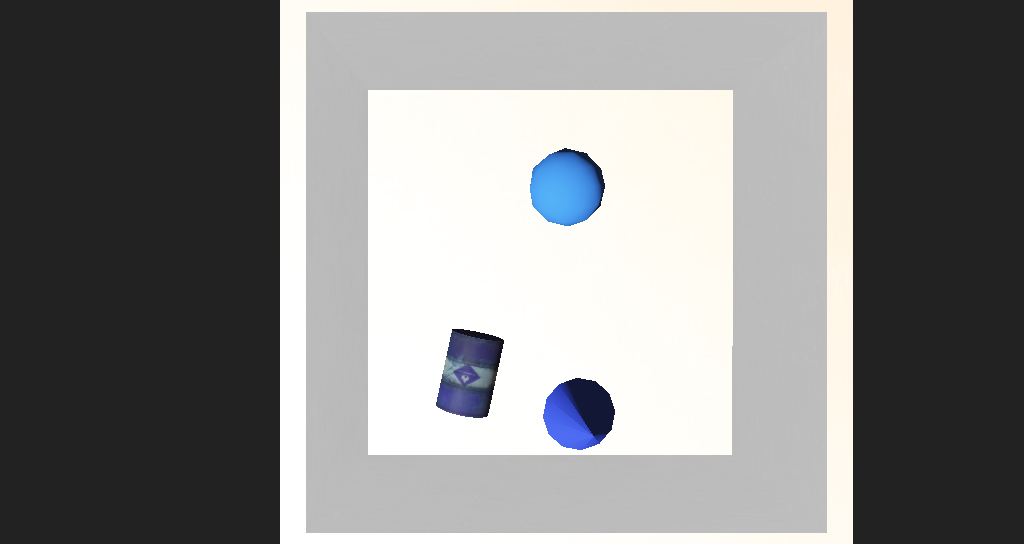cone: (408, 303, 468, 356)
cylinder: (499, 329, 566, 387)
sphere: (488, 198, 549, 241)
